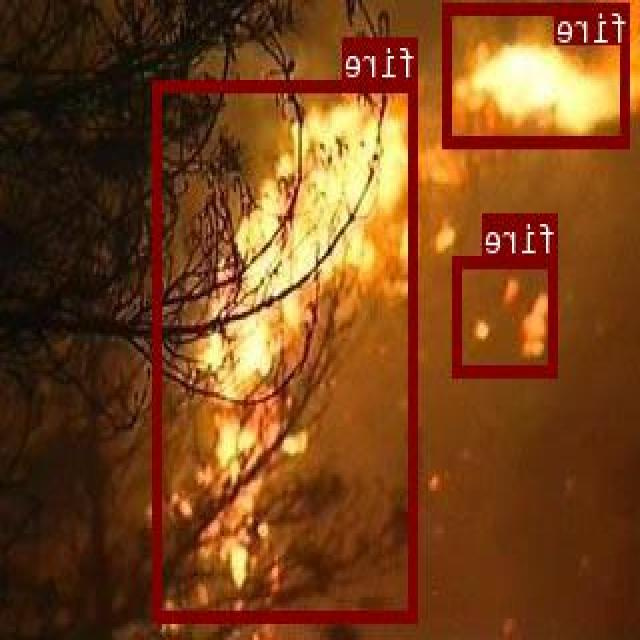fire: (155, 80, 419, 621), (445, 0, 631, 145), (454, 255, 559, 374)
